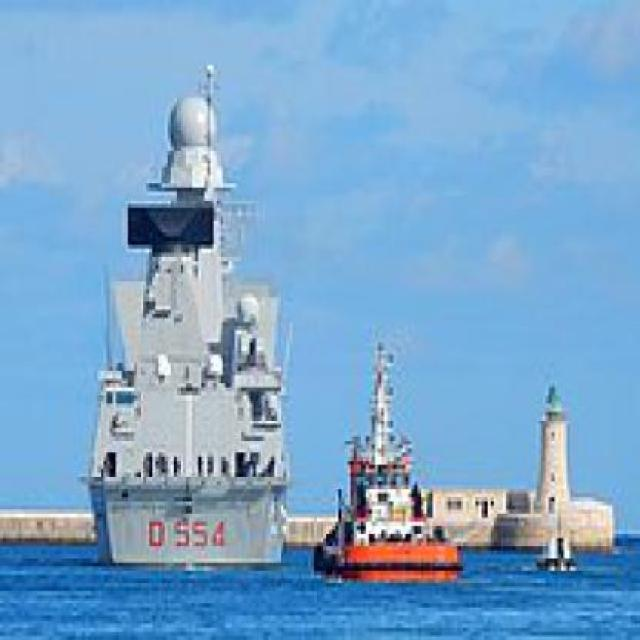warship2: (61, 1, 306, 576)
